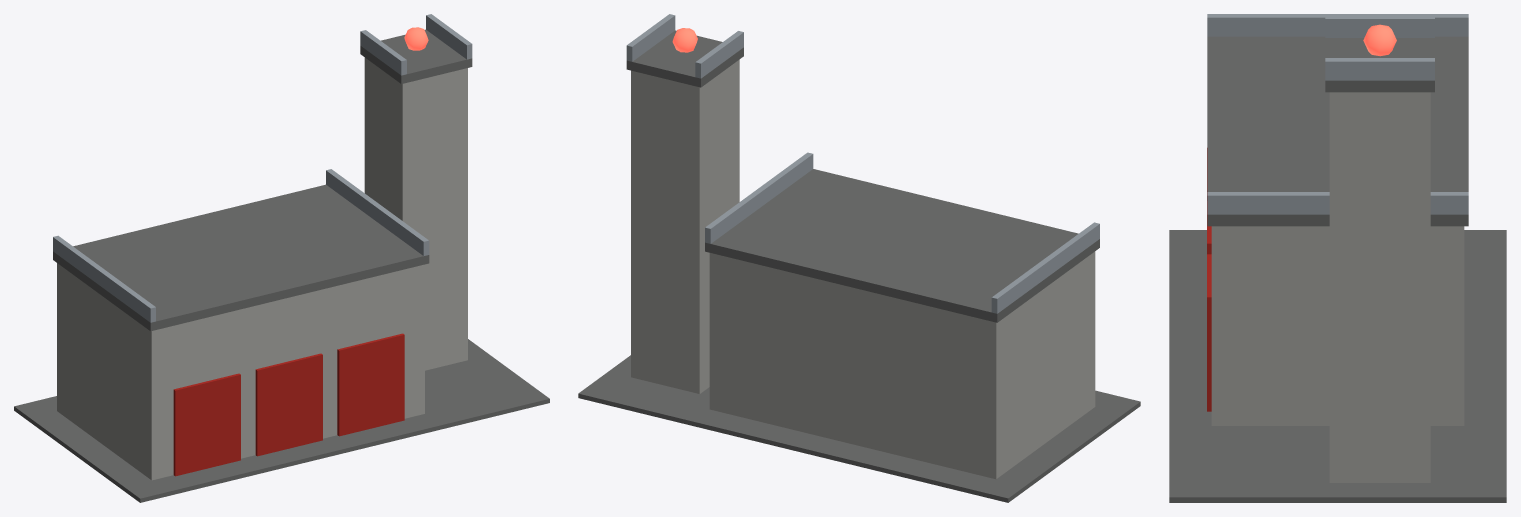
Rendered from bld_special_fire_station_a06_lod1.glb.
3 renders of one model, left to right at view 1: azimuth 30°, elevation 25°; view 2: azimuth 150°, elevation 25°; view 3: azimuth 270°, elevation 25°, orthographic. The views are drawn at different scales.
Parts seen in each view (by area): view 1: body; view 2: body; view 3: body.
Boxes of the visible parts, x1,y1,x2,y2 form: body: [14, 14, 549, 502]; body: [578, 14, 1140, 502]; body: [1169, 14, 1506, 502].
Bounding box in the file's own units: 15 × 11.58 × 8.
